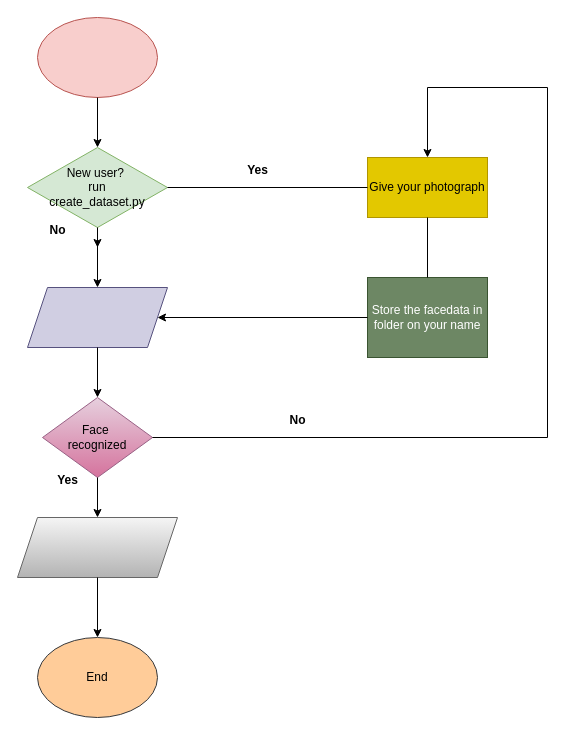
Some shapes in this 566 by 735 pixel diagram are drawn without their labels. Each missing label, with the centre of its shape:
Recognize the face run face_recognize.py: point 97,317
Start: point 97,57
Stored in csv file with regestration number and date.time of entry: point 97,547
